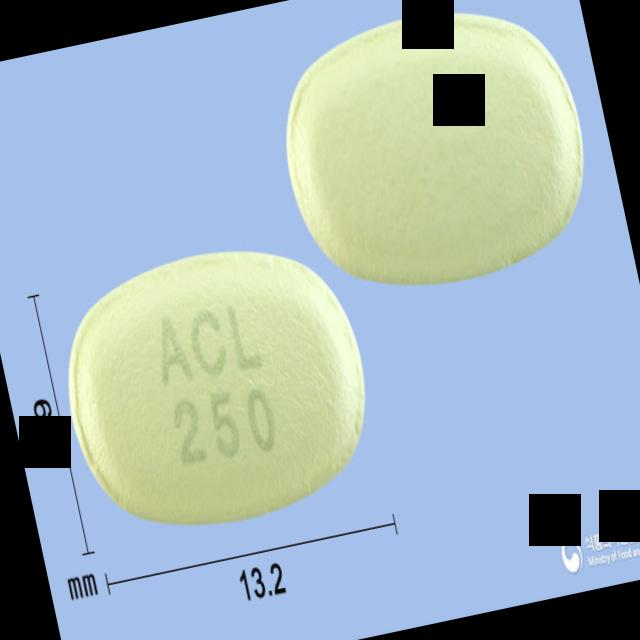Clorid: (43, 226, 391, 551)
